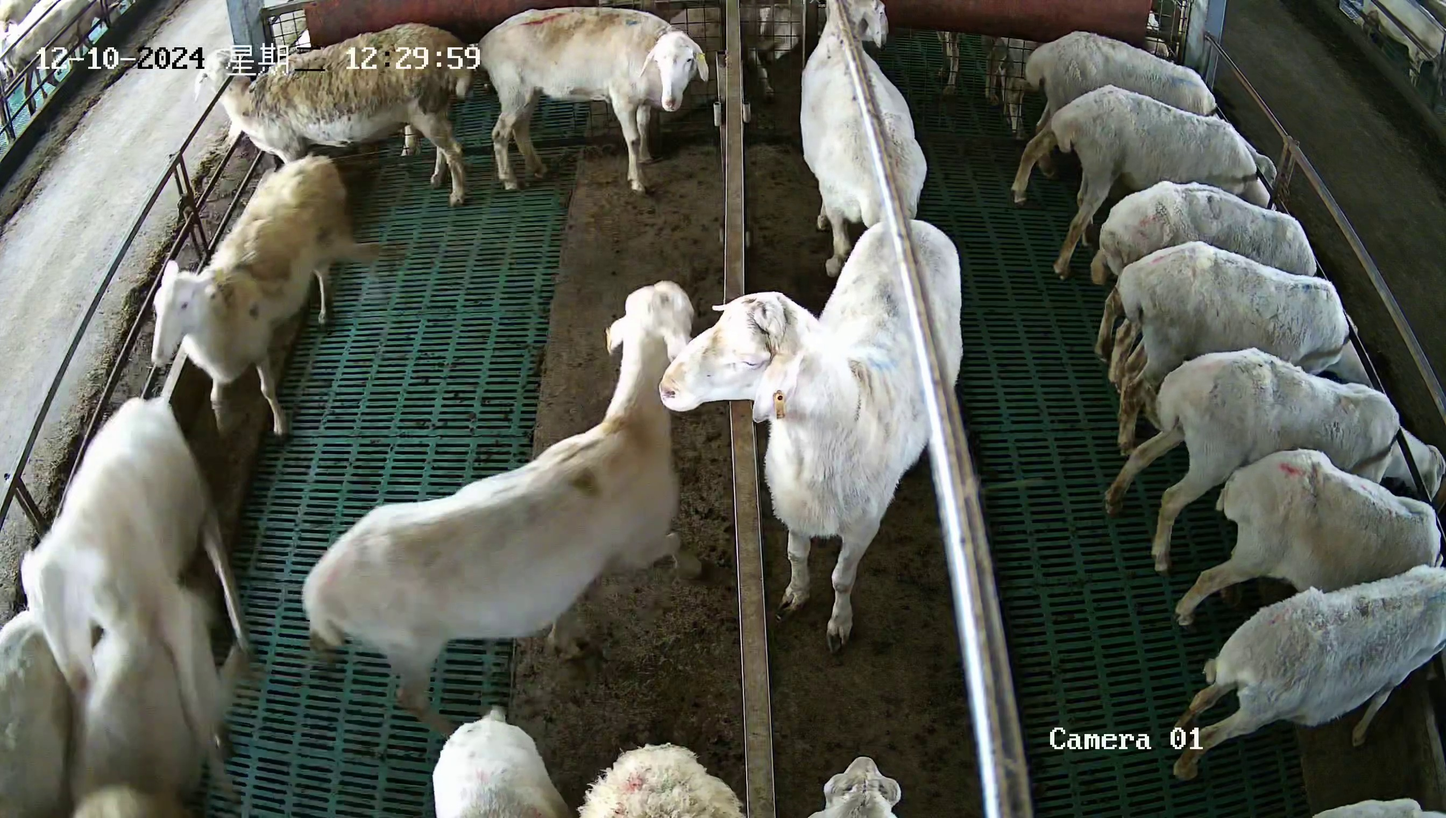Smounting: (19, 392, 252, 818)
mounted: (68, 580, 243, 818)
